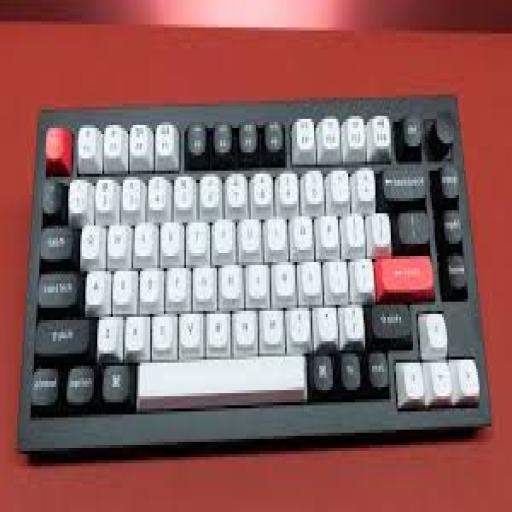keyboard: (17, 94, 490, 454)
